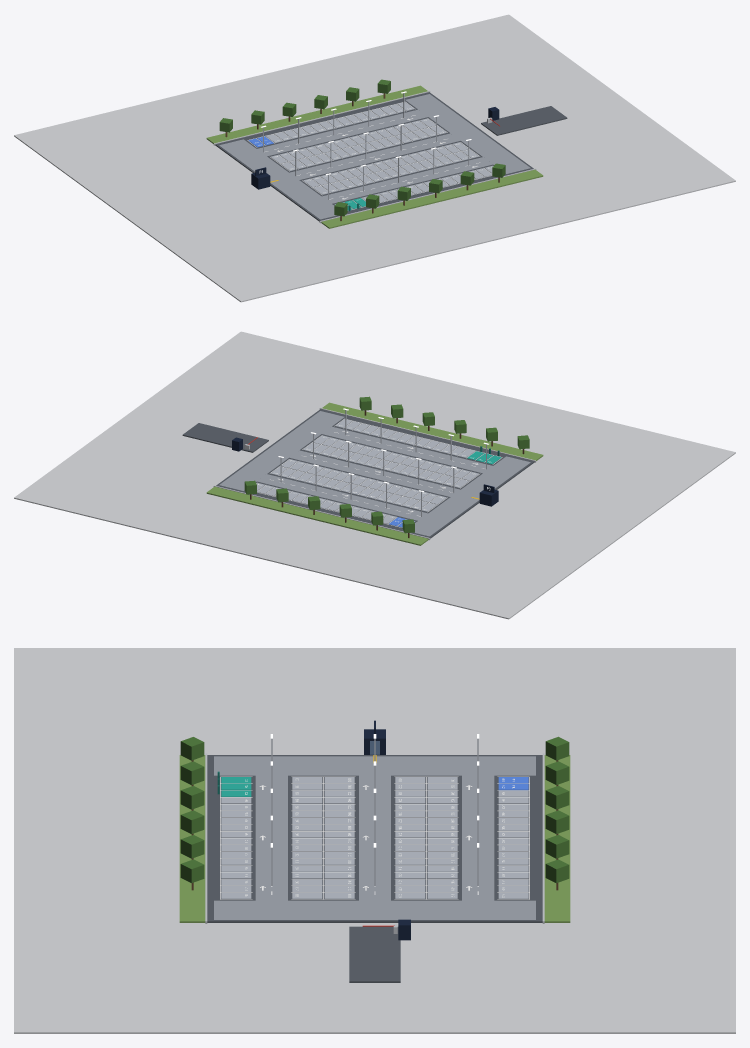
The model's file is parking_p3.glb.
The picture shows the model from 3 angles, top to bottom: view 1: azimuth 30°, elevation 25°; view 2: azimuth 150°, elevation 25°; view 3: azimuth 270°, elevation 25°; orthographic projection. The views are drawn at different scales.
Parts seen in each view (by area): view 1: P3_site_sol, P3_N0_voie, P3_N0_asphalte, P3_site_herbe, P3_N0_peinture, P3_site_arbre, P3_site_asphalte, P3_site_beton, P3_site_poteau; view 2: P3_site_sol, P3_N0_voie, P3_N0_asphalte, P3_site_herbe, P3_N0_peinture, P3_site_arbre, P3_site_asphalte, P3_site_beton, P3_site_poteau; view 3: P3_site_sol, P3_N0_voie, P3_N0_asphalte, P3_site_arbre, P3_N0_peinture, P3_site_herbe, P3_site_asphalte, P3_site_beton, P3_site_noyau, P3_site_poteau.
Part boxes in pixels (bbox=[...]): P3_site_sol: bbox=[14, 14, 735, 302]; P3_N0_voie: bbox=[219, 94, 530, 219]; P3_N0_asphalte: bbox=[215, 92, 533, 221]; P3_site_herbe: bbox=[206, 85, 543, 228]; P3_N0_peinture: bbox=[247, 101, 493, 210]; P3_site_arbre: bbox=[219, 79, 505, 216]; P3_site_asphalte: bbox=[481, 106, 567, 135]; P3_site_beton: bbox=[213, 91, 536, 223]; P3_site_poteau: bbox=[263, 93, 469, 199]; P3_site_sol: bbox=[14, 331, 735, 619]; P3_N0_voie: bbox=[219, 411, 530, 536]; P3_N0_asphalte: bbox=[216, 409, 534, 538]; P3_site_herbe: bbox=[206, 402, 543, 545]; P3_N0_peinture: bbox=[256, 418, 502, 527]; P3_site_arbre: bbox=[244, 396, 529, 533]; P3_site_asphalte: bbox=[182, 423, 268, 452]; P3_site_beton: bbox=[213, 408, 536, 540]; P3_site_poteau: bbox=[280, 410, 486, 516]; P3_site_sol: bbox=[14, 648, 735, 1033]; P3_N0_voie: bbox=[214, 756, 535, 919]; P3_N0_asphalte: bbox=[207, 755, 542, 922]; P3_site_arbre: bbox=[180, 736, 569, 883]; P3_N0_peinture: bbox=[220, 776, 529, 899]; P3_site_herbe: bbox=[179, 755, 570, 922]; P3_site_asphalte: bbox=[349, 926, 400, 982]; P3_site_beton: bbox=[205, 753, 544, 933]; P3_site_noyau: bbox=[364, 729, 410, 940]; P3_site_poteau: bbox=[271, 738, 478, 885].
Bounding box in the file's own units: 141 × 7.64 × 112.
